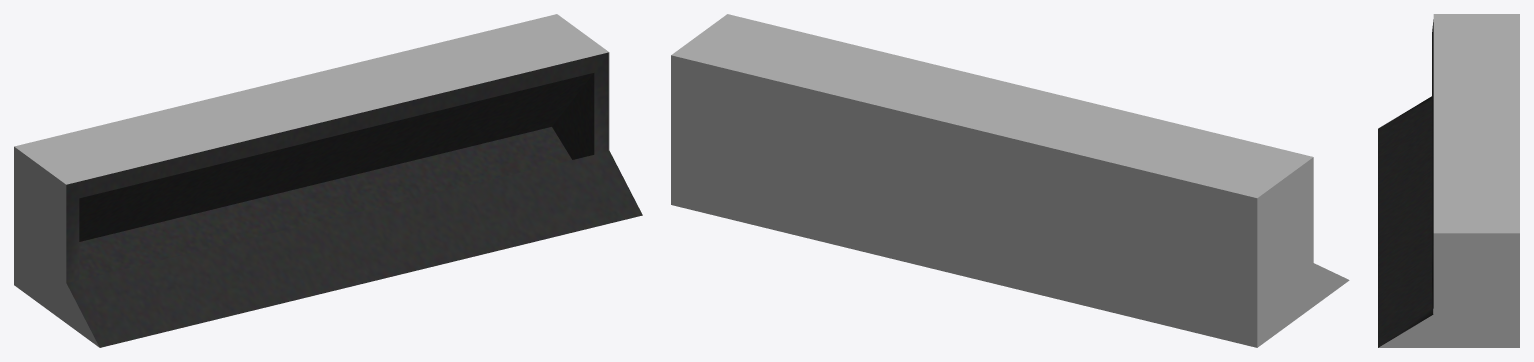
File: bulletcatcher.fbx
3 views of the same model, side by side, from view 1: azimuth 30°, elevation 25°; view 2: azimuth 150°, elevation 25°; view 3: azimuth 270°, elevation 25° (orthographic). The views are drawn at different scales.
Parts seen in each view (by area): view 1: bulletcatch; view 2: bulletcatch; view 3: bulletcatch.
Part boxes in pixels (<box>): bulletcatch: <box>14,14,642,347</box>; bulletcatch: <box>671,14,1349,347</box>; bulletcatch: <box>1378,14,1519,347</box>.
Bounding box in the file's own units: 1500 × 366 × 411.
1 material, 1 textured.
